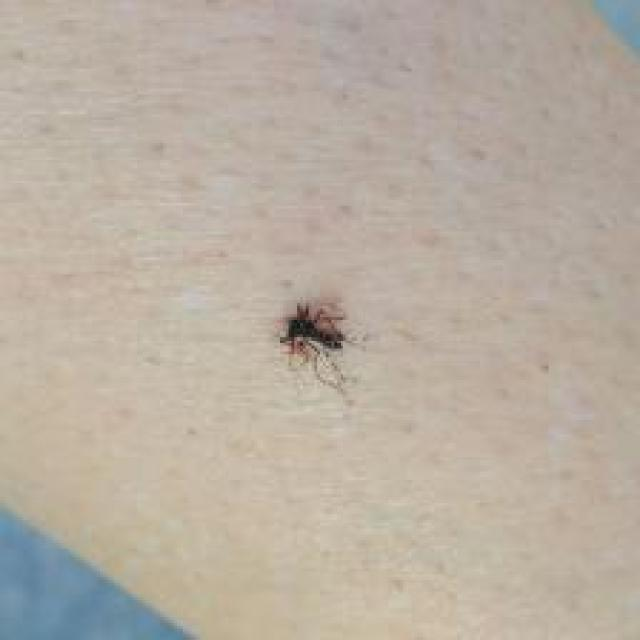Aedes albopictus: (276, 299, 361, 390)
